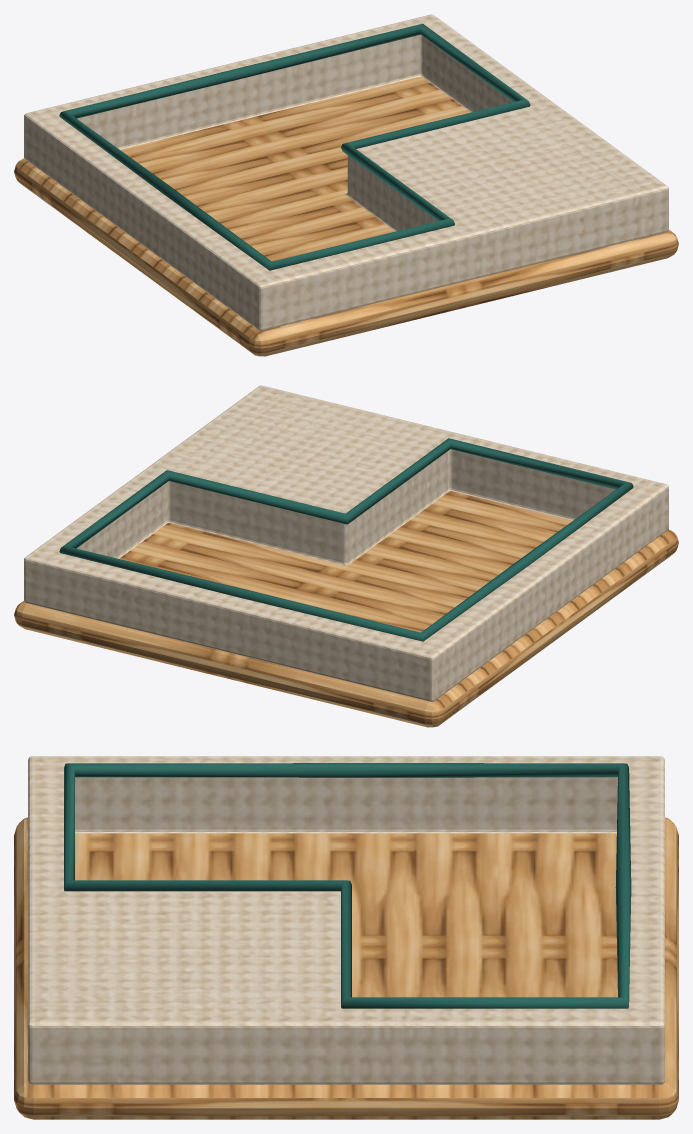
The model's file is socket_elbow.glb.
3 views of the same model, one above another, from view 1: azimuth 30°, elevation 25°; view 2: azimuth 150°, elevation 25°; view 3: azimuth 270°, elevation 25° (orthographic). The views are drawn at different scales.
Parts seen in each view (by area): view 1: socket_elbow; view 2: socket_elbow; view 3: socket_elbow.
Part boxes in pixels (x1,y1,x2,y2): socket_elbow: [14, 14, 678, 356]; socket_elbow: [14, 385, 678, 727]; socket_elbow: [14, 756, 678, 1119].
Size of the model in its own units: 0.6 by 0.105 by 0.6.
3 materials, 2 textured.
